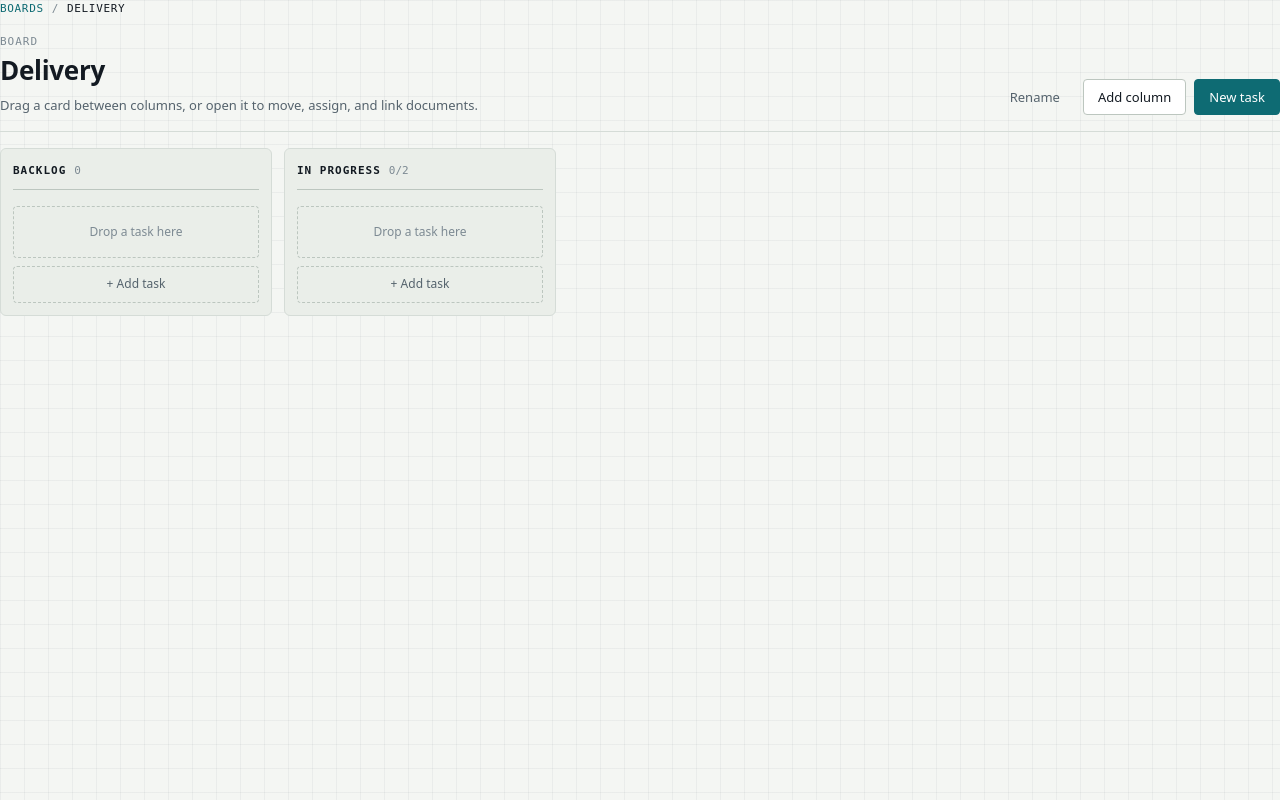
Scenario: BoardPage › will not save a rename that changes nothing
The image size is (1280, 800).
Click the button "Rename". click: point(1035, 97)
box: [995,79,1075,115]
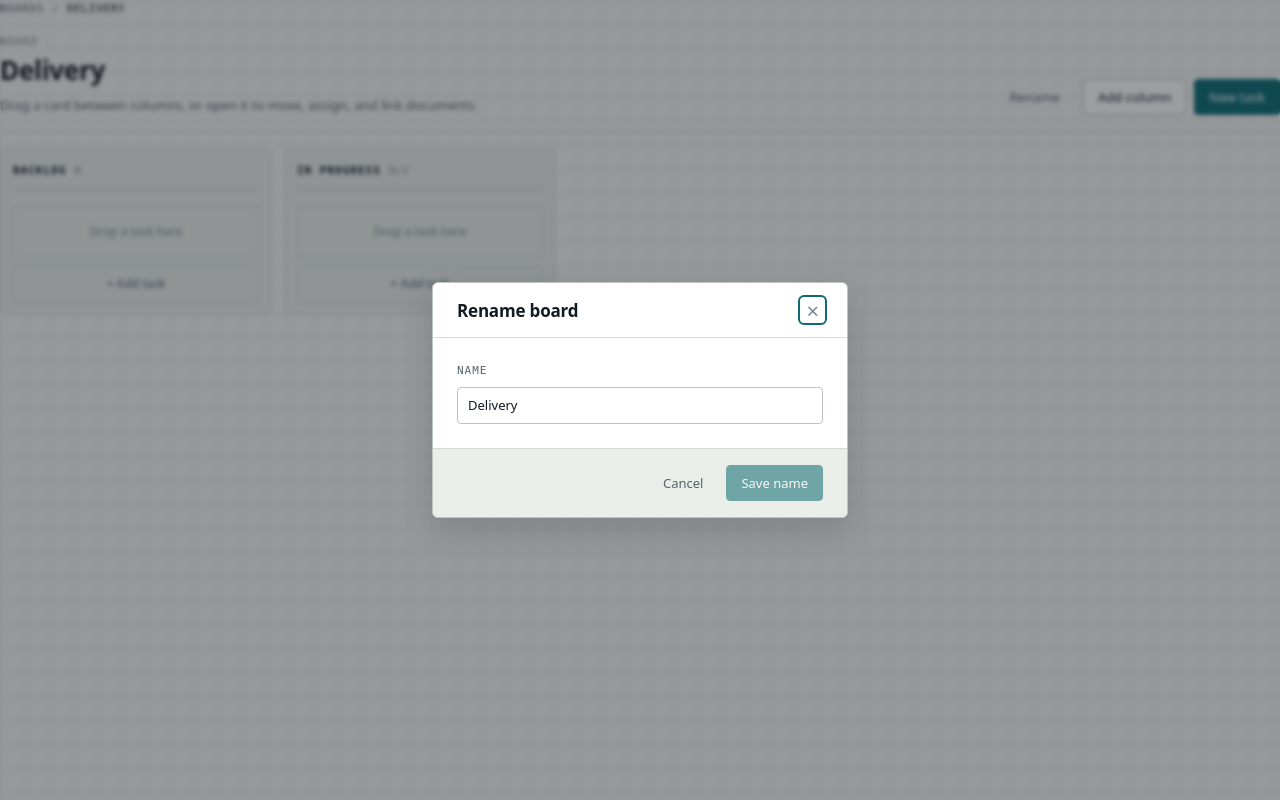
Check: the button "Save name" is disabled, box [726,464,823,501]
